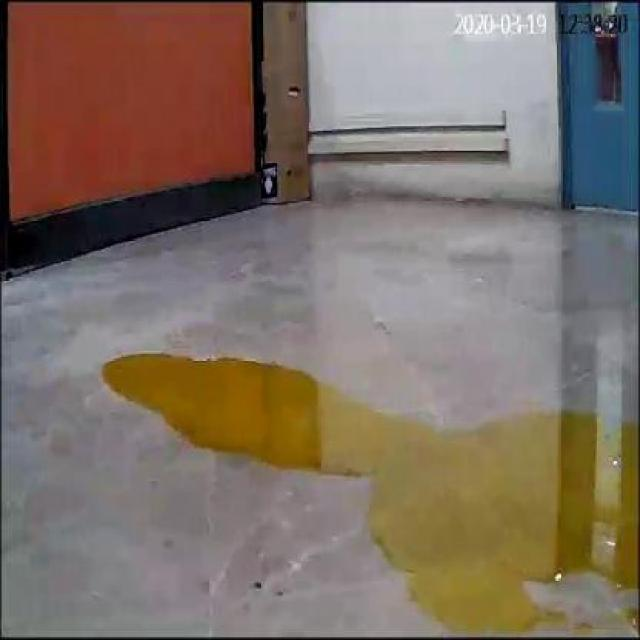spill: (100, 346, 638, 626)
